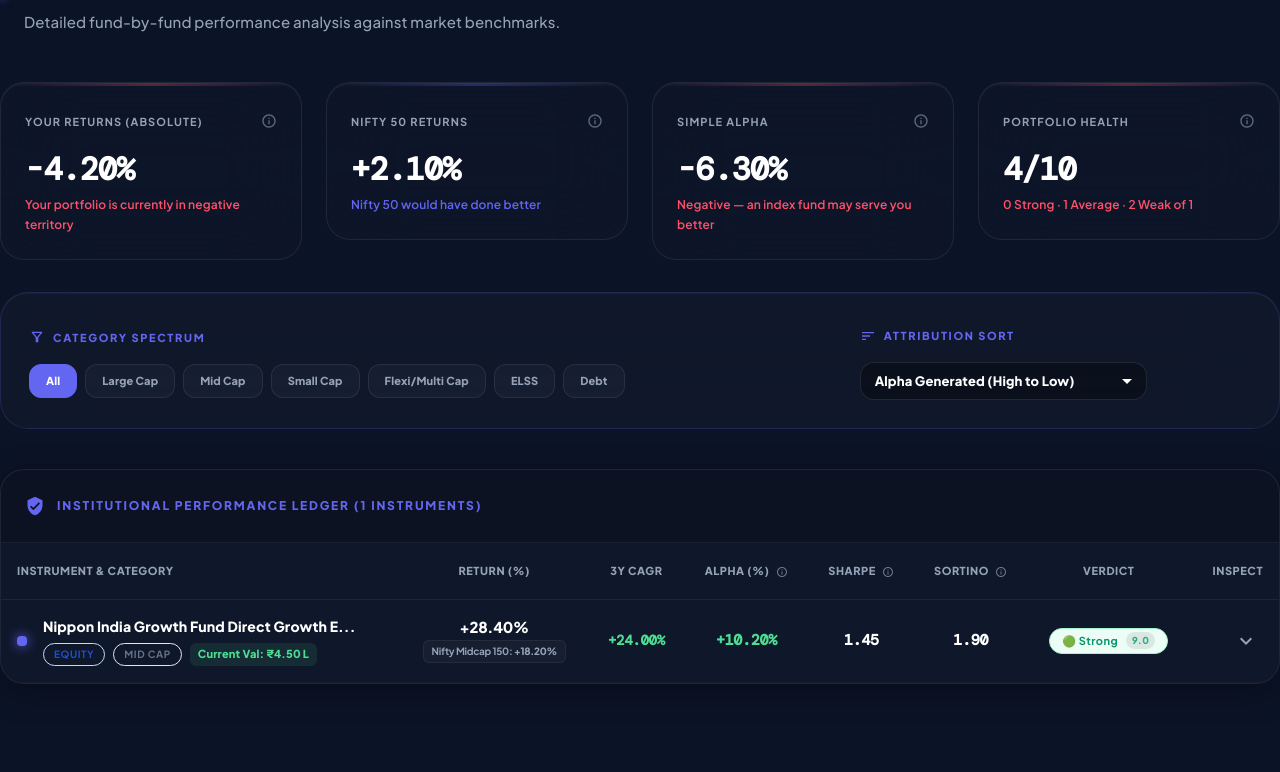
Test case: PerformanceTab › covers absolute / negative portfolio hero copy and peer fallback banner
Expected: the text "Your Returns (Absolute)" is shown, x1=25 y1=115 x2=203 y2=128
Expected: the text "Your portfolio is currently in negative territory" is shown, x1=25 y1=195 x2=277 y2=235
Click the text "Nippon India Growth Fund Direct Growth E...". click: (199, 627)
box: x1=43 y1=616 x2=356 y2=637
(page scrolled)
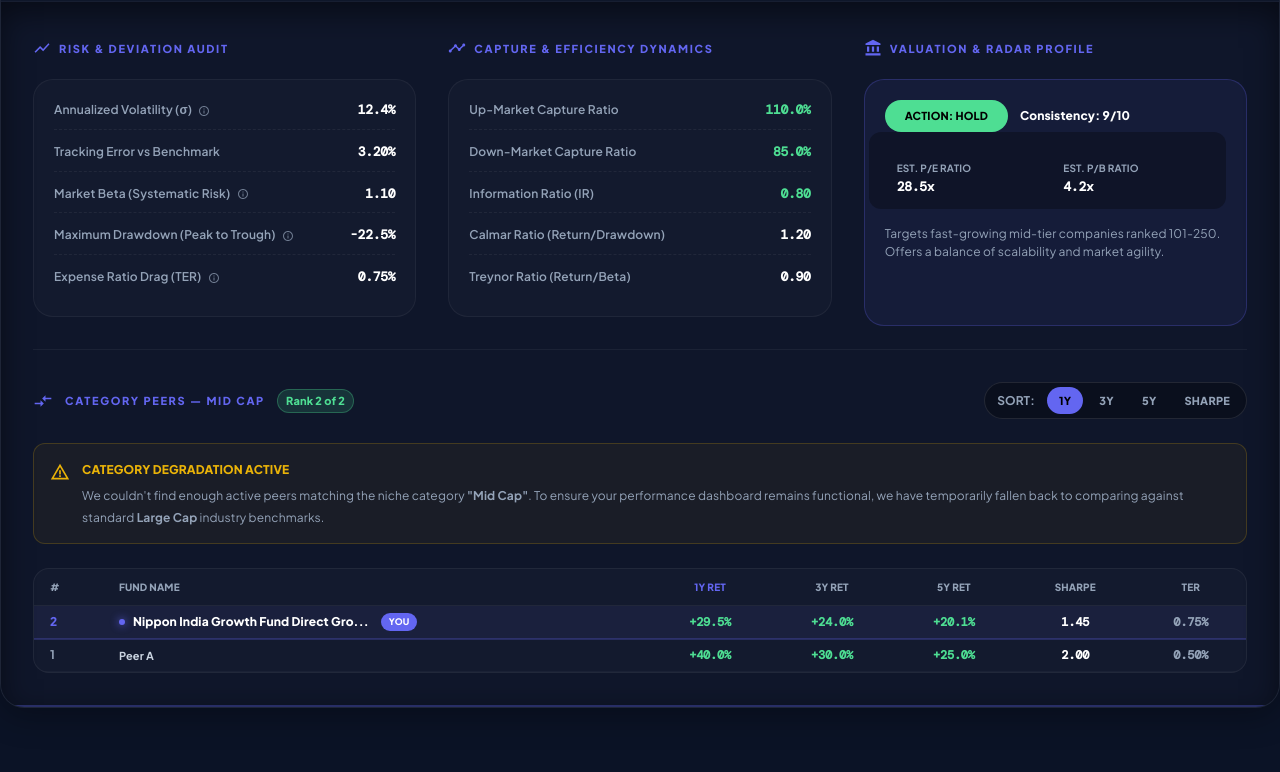
Expected: the text "CATEGORY DEGRADATION ACTIVE" is shown, x1=82 y1=462 x2=289 y2=477
